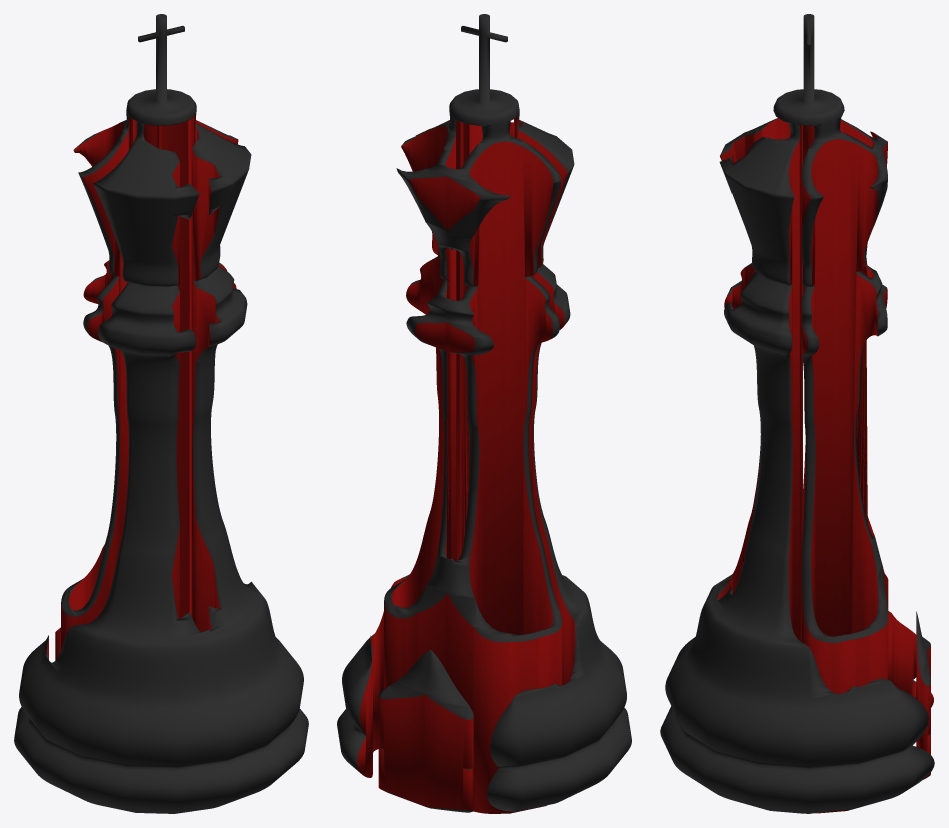
The model's file is BlackKing.fbx.
The picture shows the model from 3 angles, left to right: view 1: azimuth 30°, elevation 25°; view 2: azimuth 150°, elevation 25°; view 3: azimuth 270°, elevation 25°; orthographic projection.
Visible parts, largest first — view 1: King.001; view 2: King.001; view 3: King.001.
Boxes of the visible parts, x1,y1,x2,y2 form: King.001: (14, 14, 308, 813); King.001: (337, 14, 631, 813); King.001: (660, 14, 934, 813).
Size of the model in its own units: 71.08 by 200 by 65.58.
